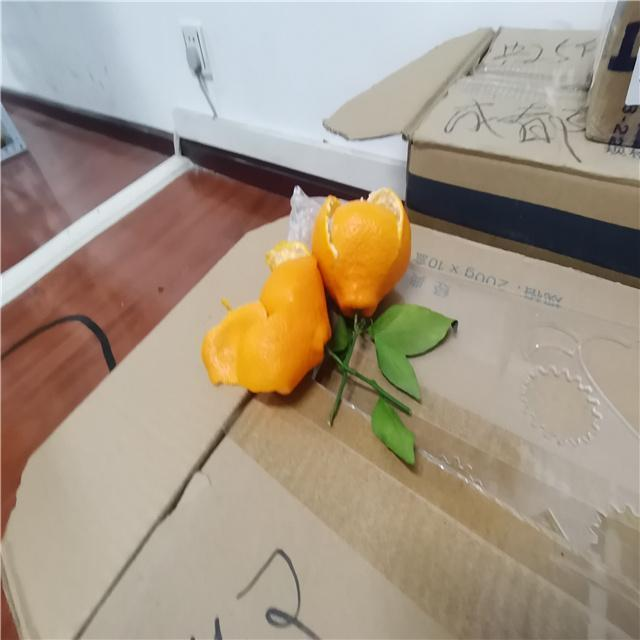orange peel: (200, 240, 332, 397), (308, 185, 412, 319)
